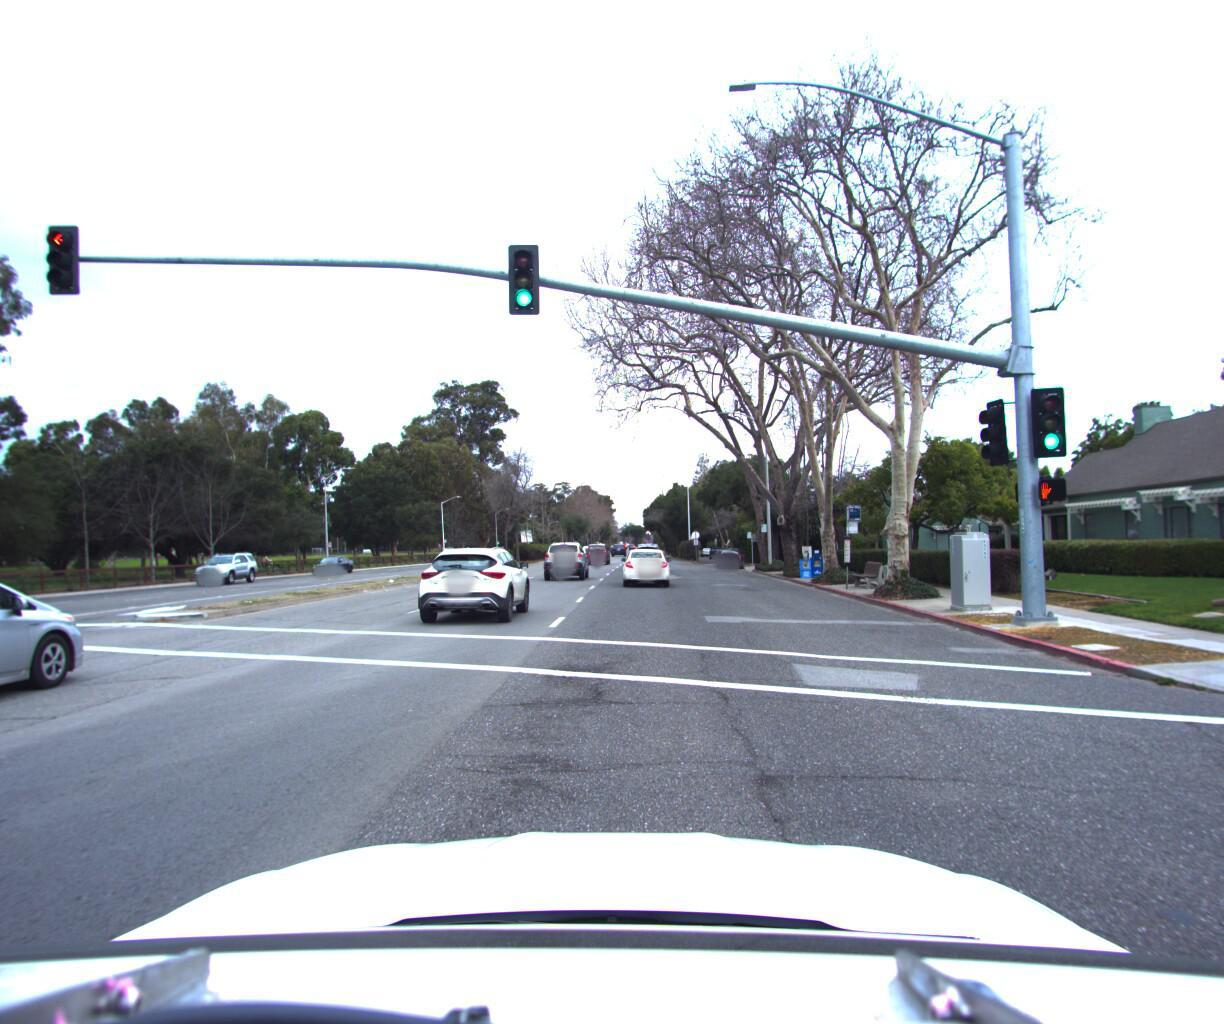car: (415, 544, 536, 626), (190, 546, 264, 583), (539, 536, 588, 580), (622, 544, 670, 588), (308, 550, 358, 571), (582, 534, 609, 558), (716, 540, 742, 563)
